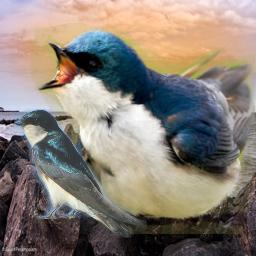Swallow: (31, 23, 255, 234), (14, 109, 147, 238)
